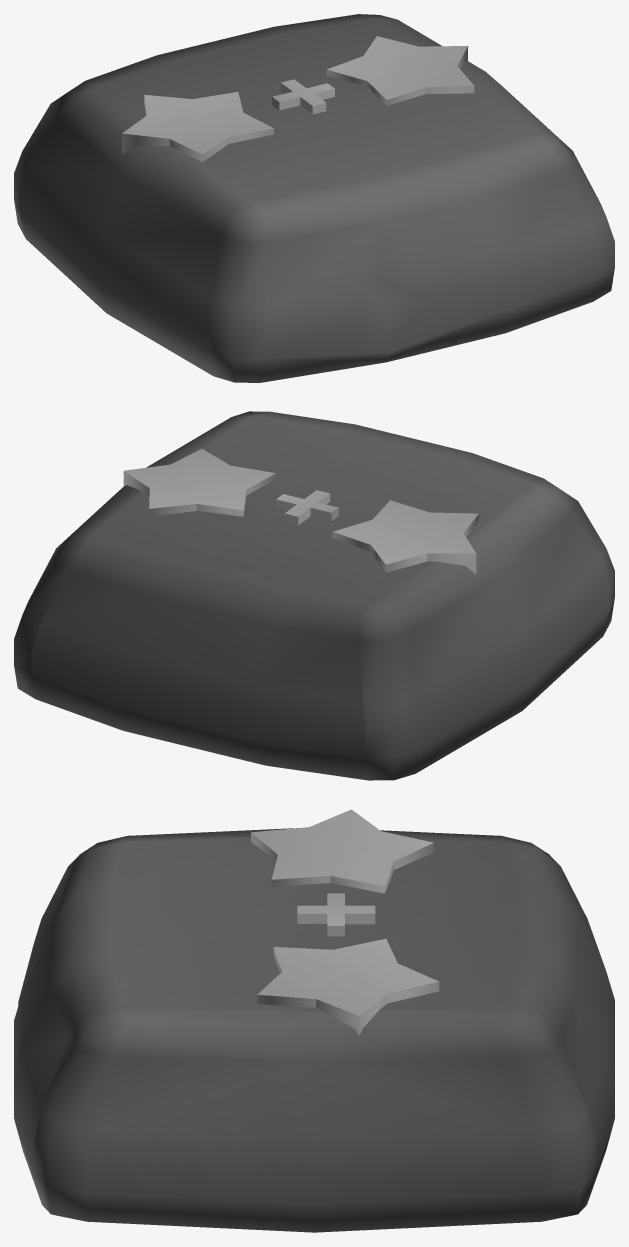
The model's file is Block_Merge.fbx.
3 views of the same model, one above another, from view 1: azimuth 30°, elevation 25°; view 2: azimuth 150°, elevation 25°; view 3: azimuth 270°, elevation 25° (orthographic). The views are drawn at different scales.
Visible parts, largest first — view 1: block_stone1_3_half_plinth_LOD3; view 2: block_stone1_3_half_plinth_LOD3; view 3: block_stone1_3_half_plinth_LOD3.
Boxes of the visible parts, box(x1,y1,x2,y2) form: block_stone1_3_half_plinth_LOD3: box(14, 14, 614, 382); block_stone1_3_half_plinth_LOD3: box(14, 411, 614, 780); block_stone1_3_half_plinth_LOD3: box(14, 809, 614, 1232).
Bounding box in the file's own units: 105 × 40.69 × 106.
Materials: 1 (1 with a texture image).
